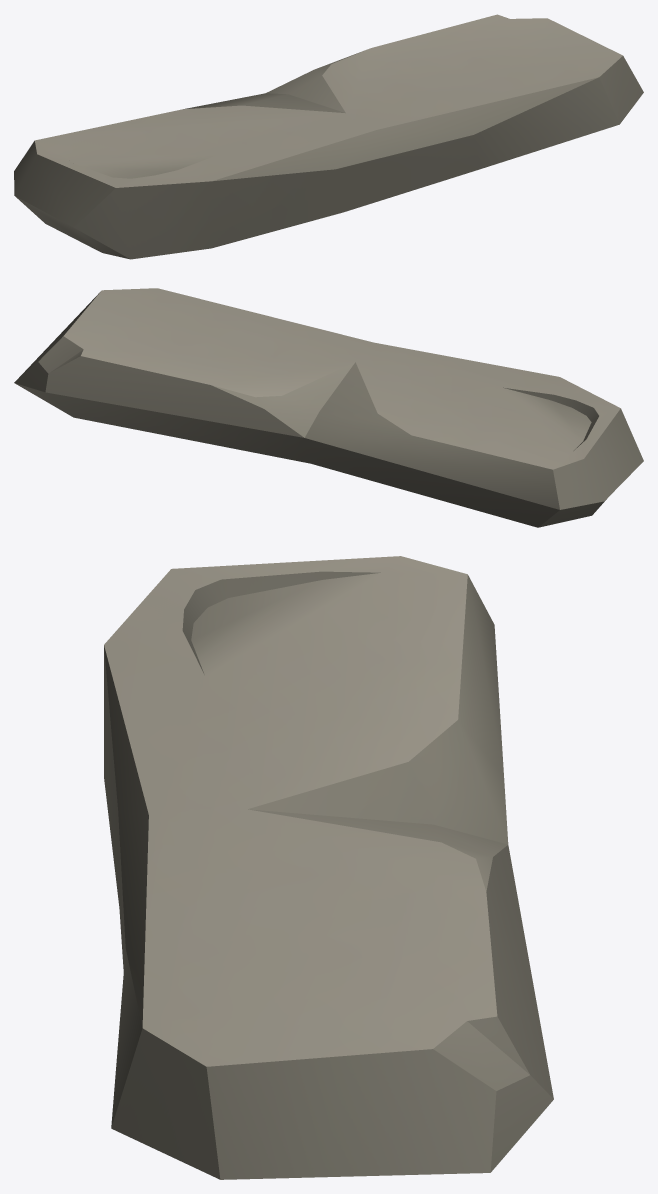
The model's file is Stone_Step_5A.fbx.
The picture shows the model from 3 angles, top to bottom: view 1: azimuth 30°, elevation 25°; view 2: azimuth 150°, elevation 25°; view 3: azimuth 270°, elevation 25°; orthographic projection. The views are drawn at different scales.
Parts seen in each view (by area): view 1: Stone_Step_5A; view 2: Stone_Step_5A; view 3: Stone_Step_5A.
Boxes of the visible parts, x1,y1,x2,y2 form: Stone_Step_5A: (14, 14, 643, 259); Stone_Step_5A: (14, 288, 643, 527); Stone_Step_5A: (104, 556, 553, 1179).
Size of the model in its own units: 2.9 by 0.3189 by 0.9803.
